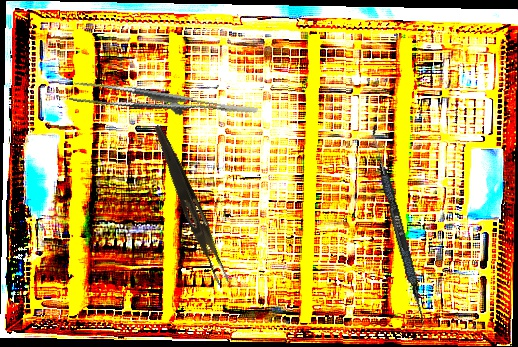Dressing Forceps: (145, 123, 236, 287)
Spatula Surgical: (363, 124, 433, 326)
Tissue Forceps: (68, 63, 259, 145)
